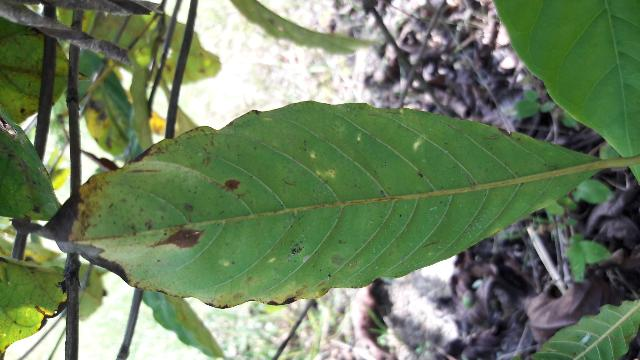red_spider_mite: (47, 98, 609, 304)
